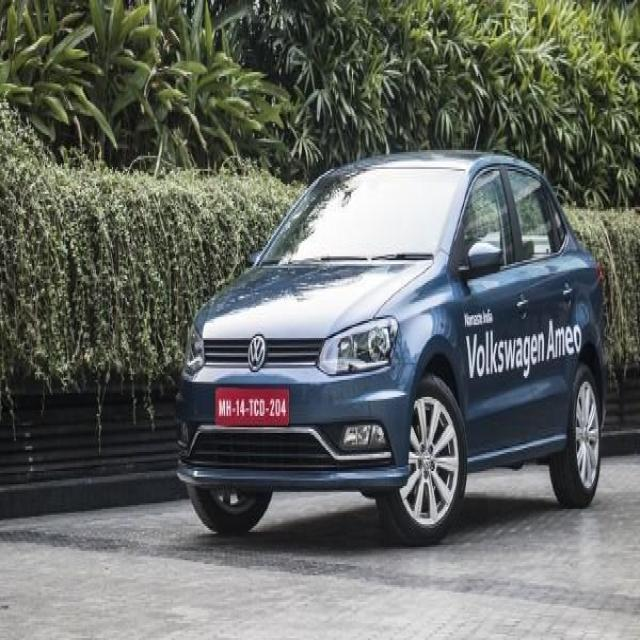number_plate: (211, 383, 291, 418)
